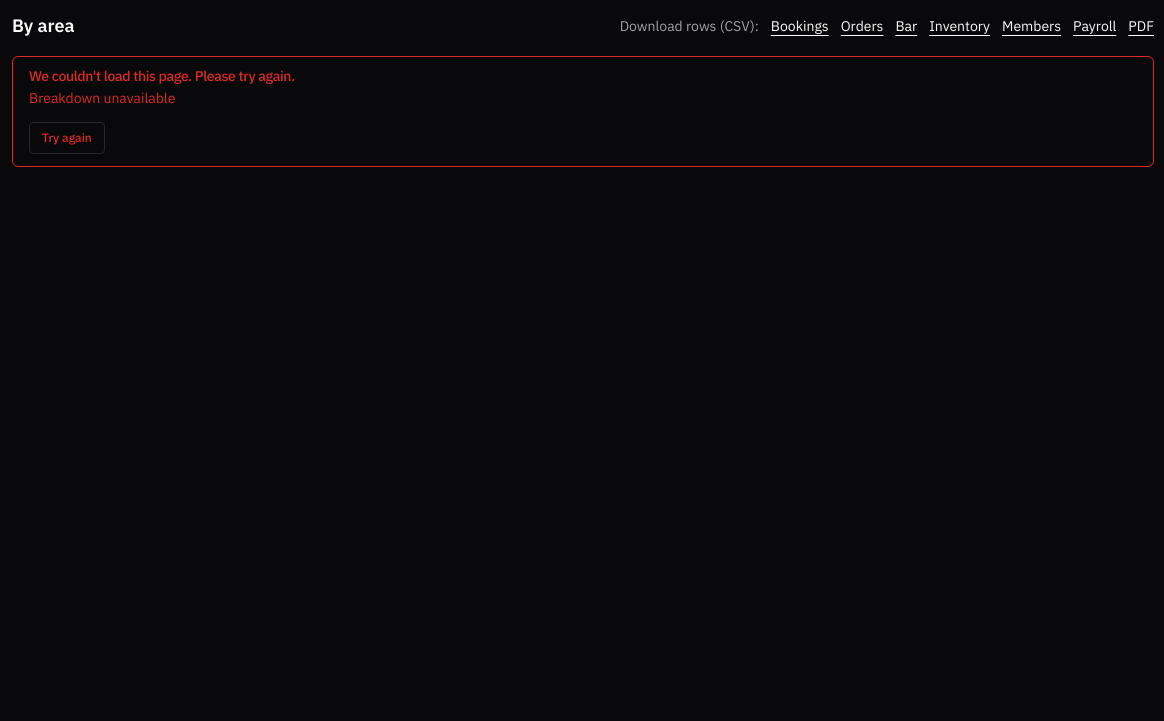
Test: report breakdown › loads for the chosen period, and shows an error with retry
Expected: the text "Breakdown unavailable" is shown, [29,89,175,107]
Click the button "Try again": x=67, y=138 [29,122,105,154]
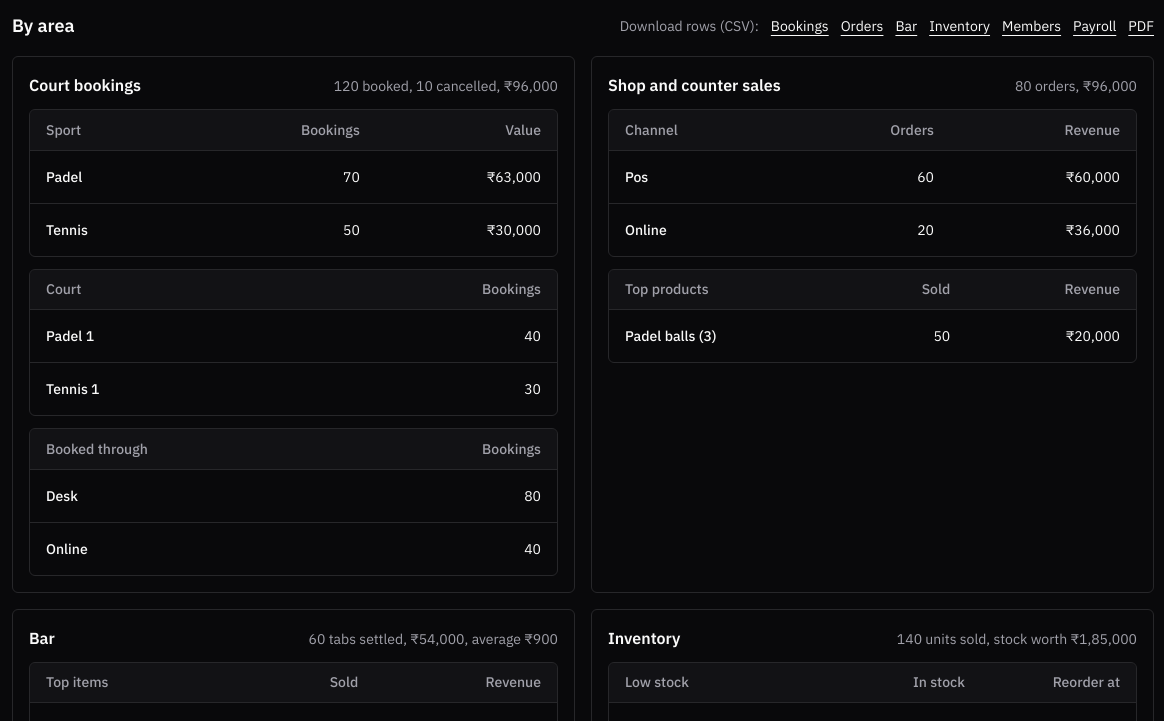
Now the element "Court bookings" is shown, box [12,56,575,592]
